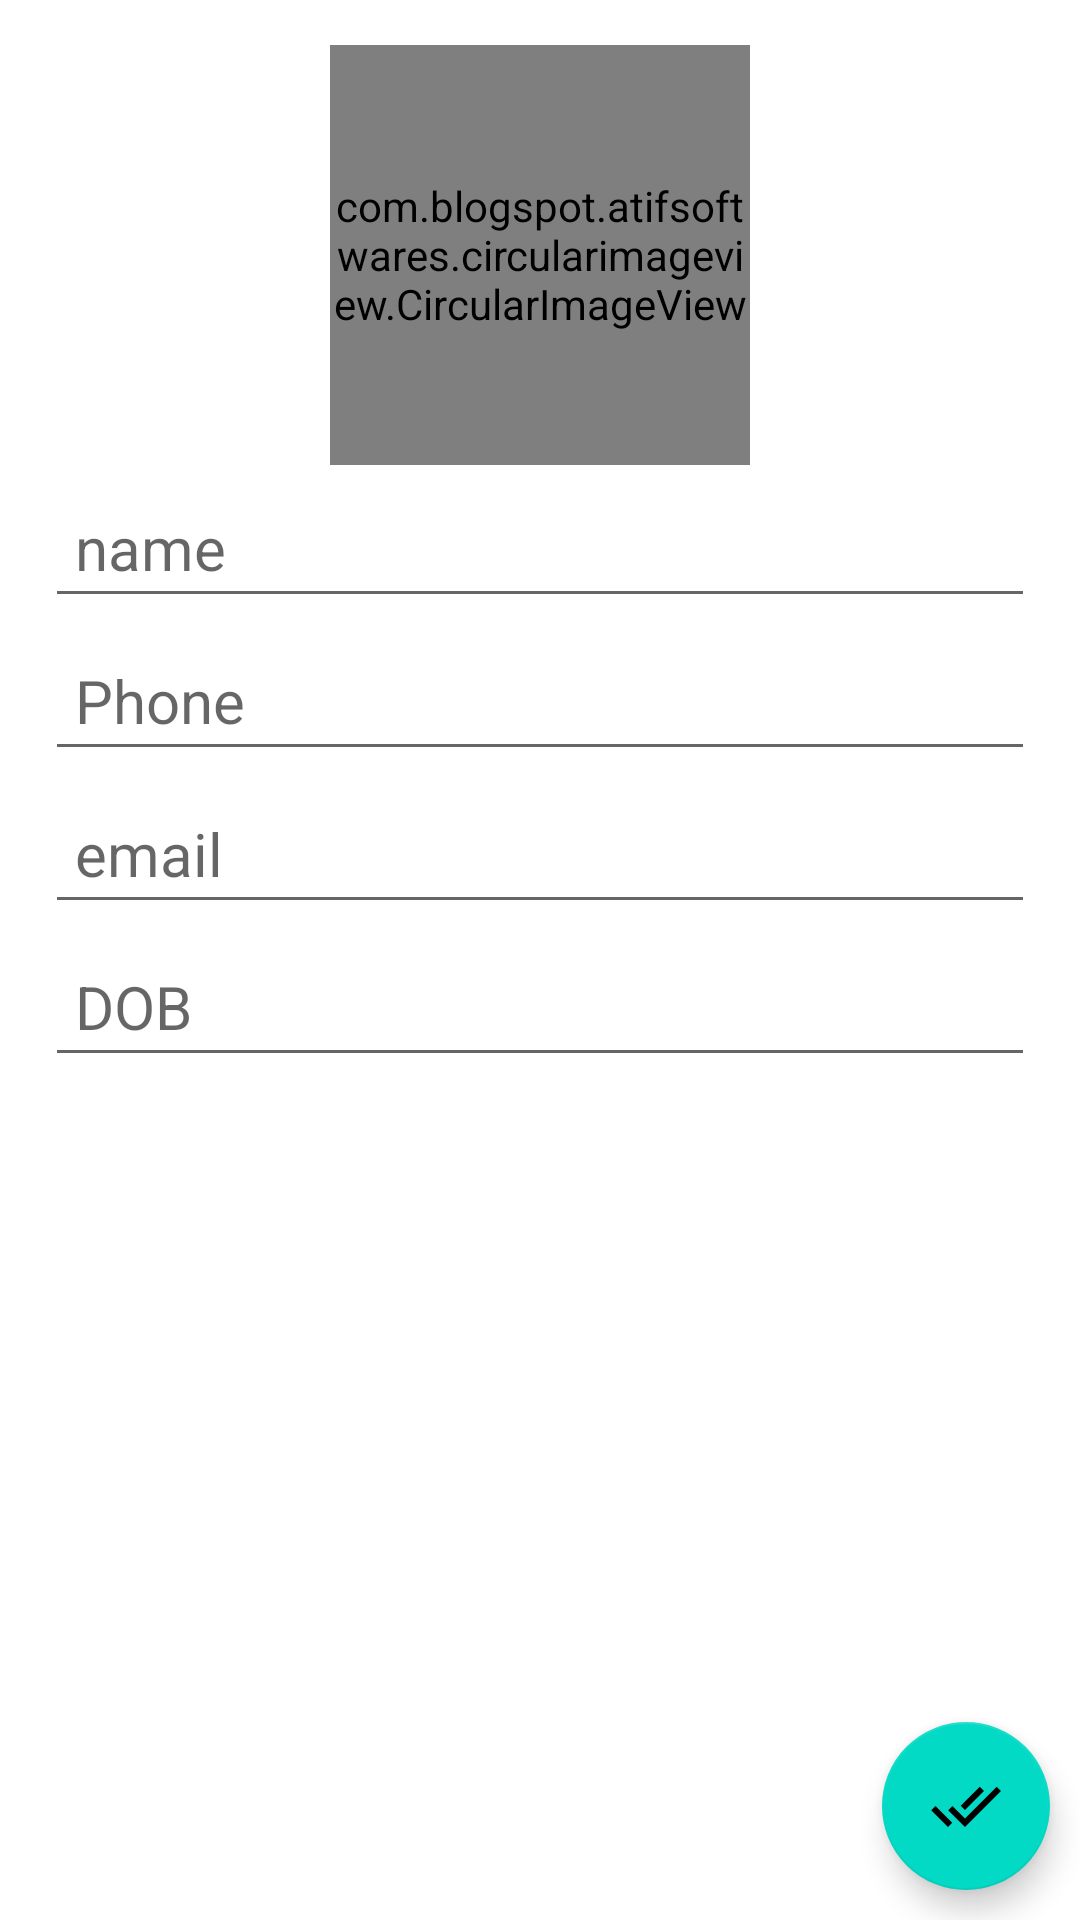

Icons on this 1080×1920 Android screen, each with its box as box(x1, y1, x2, y2):
done all: box(882, 1722, 1050, 1890)
